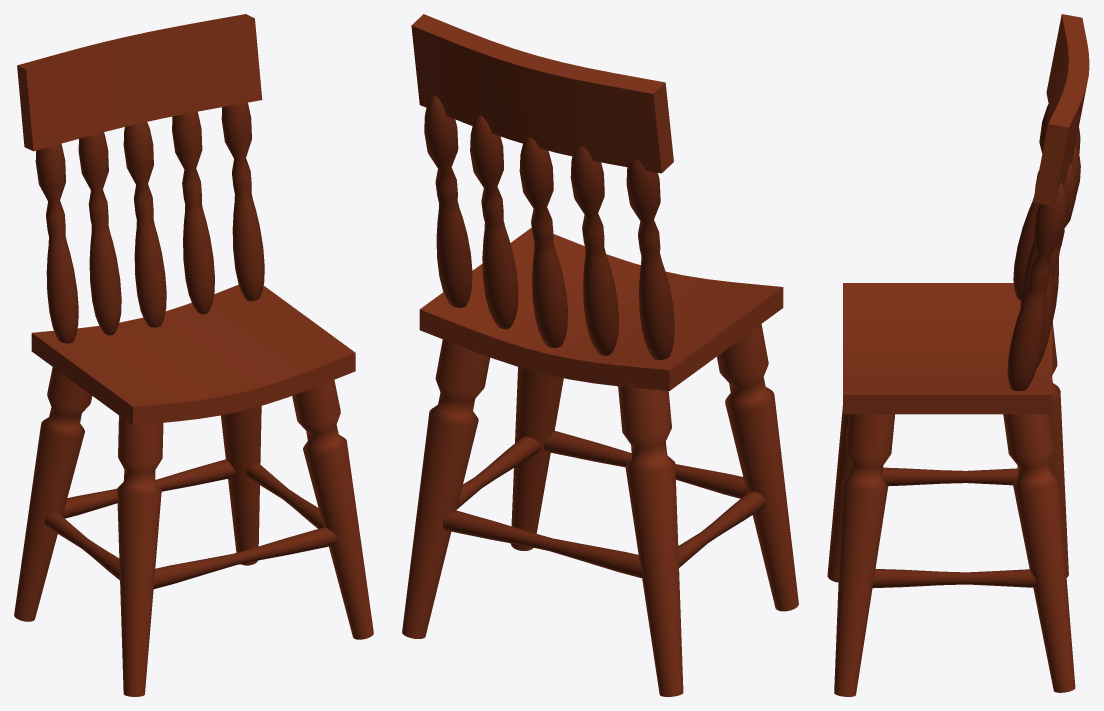
Rendered from Stuhl.fbx.
3 views of the same model, side by side, from view 1: azimuth 30°, elevation 25°; view 2: azimuth 150°, elevation 25°; view 3: azimuth 270°, elevation 25° (orthographic). The views are drawn at different scales.
Parts seen in each view (by area): view 1: pCylinder7; view 2: pCylinder7; view 3: pCylinder7.
Part boxes in pixels (x1,y1,x2,y2): pCylinder7: (14, 14, 373, 696); pCylinder7: (402, 14, 798, 696); pCylinder7: (827, 14, 1089, 696).
Size of the model in its own units: 190 by 392 by 164.
